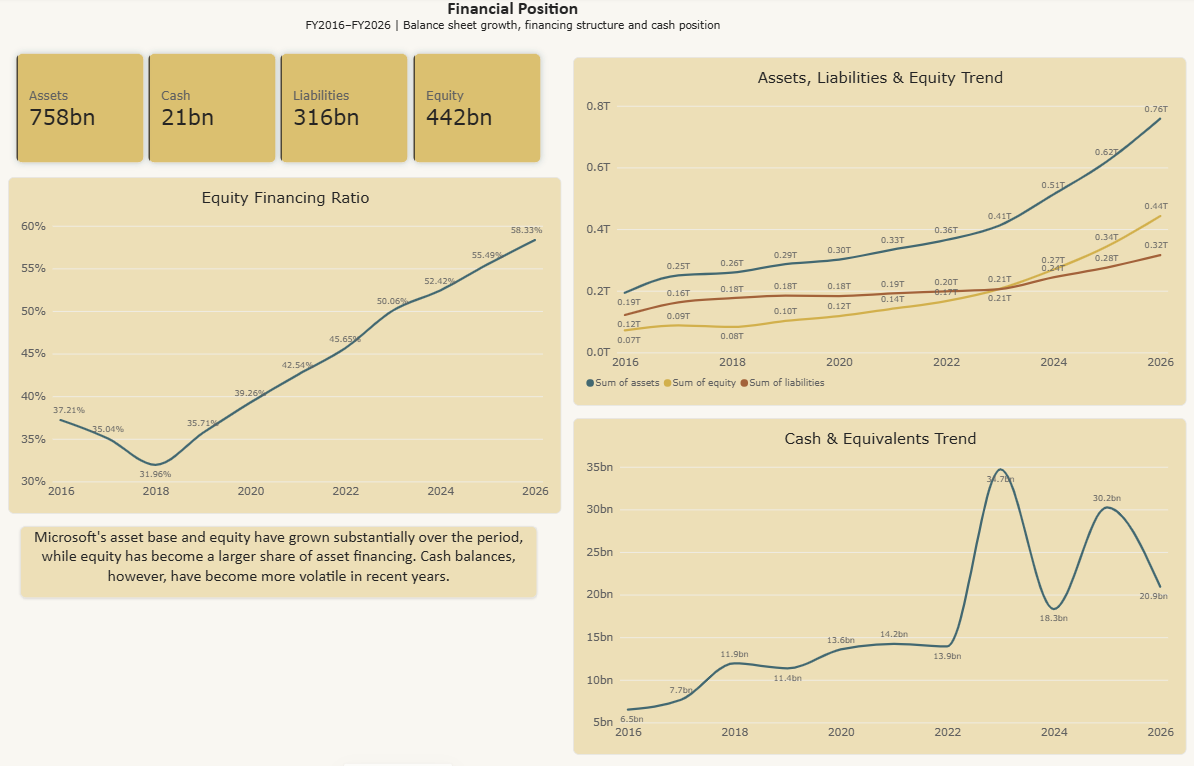

This screenshot's page, from the dashboard's own definition file:
{"tool":"powerbi","page":{"name":"Financial Position","canvas":[1920,1080],"ordinal":2},"visuals":[{"type":"cardVisual","fields":{"Data":["microsoft_financials.FY2026 Cash"]},"box":[464,64,192,168],"z":0},{"type":"cardVisual","fields":{"Data":["microsoft_financials.FY2026 Assets"]},"box":[288,64,192,168],"z":1000},{"type":"cardVisual","fields":{"Data":["microsoft_financials.FY2026 Liabilities"]},"box":[640,64,192,168],"z":2000},{"type":"cardVisual","fields":{"Data":["microsoft_financials.FY2026 Equity"]},"box":[816,64,192,168],"z":3000},{"type":"lineChart","title":"Assets, Liabilities & Equity Trend","fields":{"Category":["microsoft_financials.fiscal_year"],"Y":["Sum(microsoft_financials.assets)","Sum(microsoft_financials.equity)","Sum(microsoft_financials.liabilities)"]},"box":[1040,80,816,464],"z":4000},{"type":"lineChart","title":"Equity Financing Ratio","fields":{"Category":["microsoft_financials.fiscal_year"],"Y":["microsoft_financials.Equity Ratio %"]},"box":[288,240,736,448],"z":5000},{"type":"lineChart","title":"Cash & Equivalents Trend","fields":{"Category":["microsoft_financials.fiscal_year"],"Y":["Sum(microsoft_financials.cash_and_equivalents)"]},"box":[1040,560,816,448],"z":6000},{"type":"textbox","box":[0,0,1920,64],"z":6001},{"type":"textbox","box":[304,704,688,96],"z":6002}]}

Visuals, with their boxes on the page's 1920x1080 design canvas (x1, y1, x2, y2). These are canvas units, not pixel positions in the 1194x766 screenshot, which may show the page scaled, cropped or inside an application window:
cardVisual - microsoft_financials.FY2026 Cash: (464, 64, 656, 232)
cardVisual - microsoft_financials.FY2026 Assets: (288, 64, 480, 232)
cardVisual - microsoft_financials.FY2026 Liabilities: (640, 64, 832, 232)
cardVisual - microsoft_financials.FY2026 Equity: (816, 64, 1008, 232)
"Assets, Liabilities & Equity Trend" lineChart: (1040, 80, 1856, 544)
"Equity Financing Ratio" lineChart: (288, 240, 1024, 688)
"Cash & Equivalents Trend" lineChart: (1040, 560, 1856, 1008)
textbox: (0, 0, 1920, 64)
textbox: (304, 704, 992, 800)
